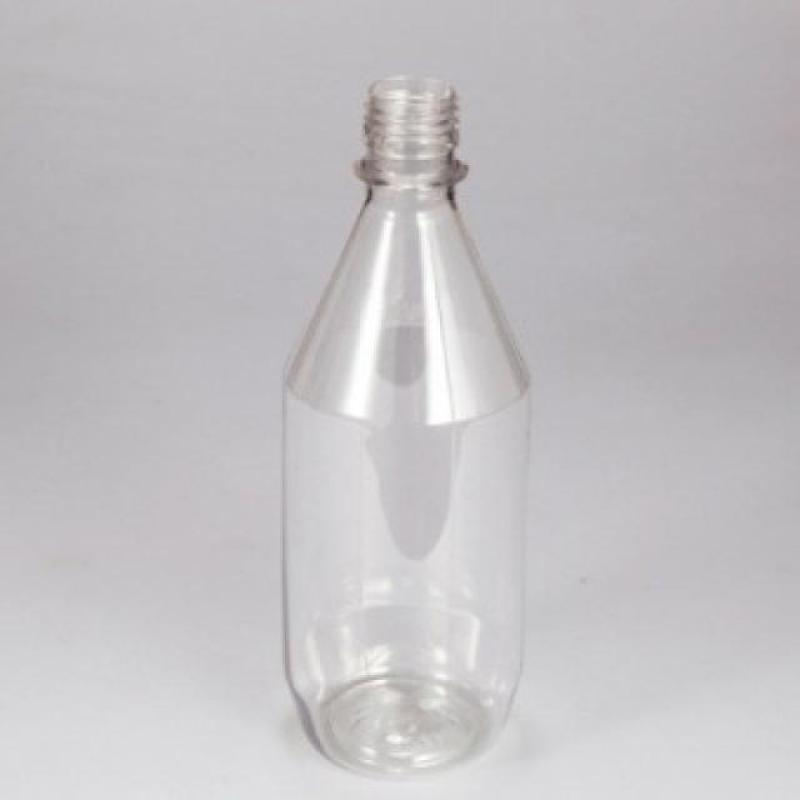botella: (282, 74, 528, 772)
